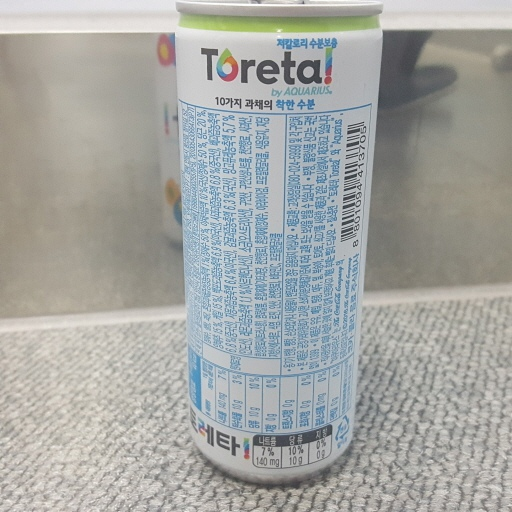Metal_0: (172, 1, 383, 486)
